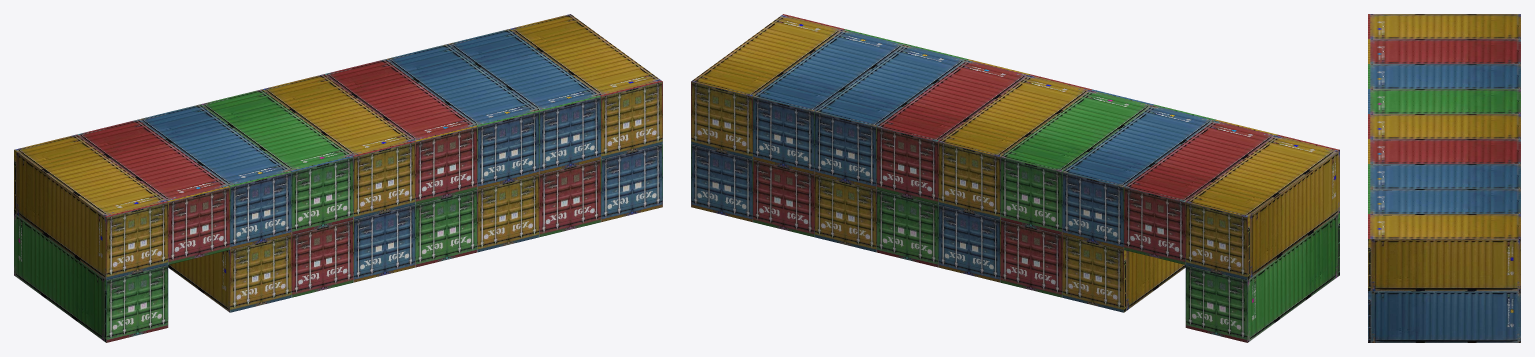
3 views of the same model, side by side, from view 1: azimuth 30°, elevation 25°; view 2: azimuth 150°, elevation 25°; view 3: azimuth 270°, elevation 25° (orthographic). The views are drawn at different scales.
Visible parts, largest first — view 1: polySurface8; view 2: polySurface8; view 3: polySurface8.
Part boxes in pixels (box(x1,y1,x2,y2)): polySurface8: box(14, 14, 662, 342); polySurface8: box(691, 14, 1339, 342); polySurface8: box(1368, 14, 1520, 342).
Size of the model in its own units: 58.02 by 12.52 by 16.65.
Materials: 1 (1 with a texture image).
